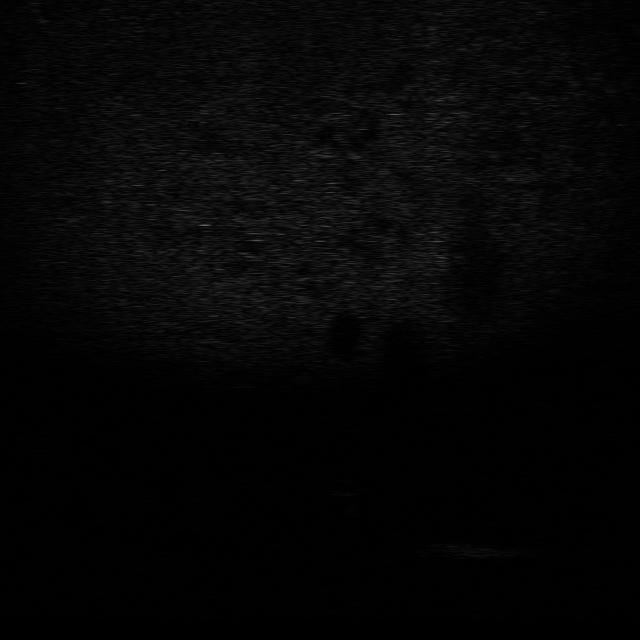ball: (322, 477, 368, 500)
metal bucket: (432, 540, 518, 561)
tyre: (379, 514, 431, 558)
